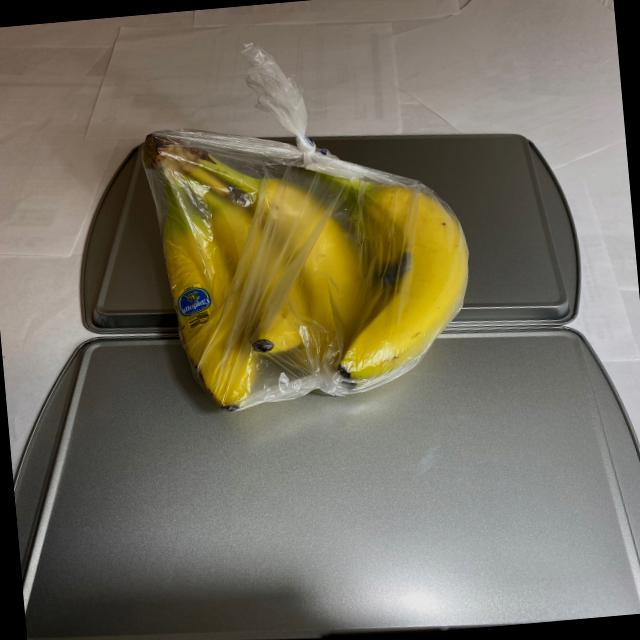banana: (131, 100, 479, 420)
